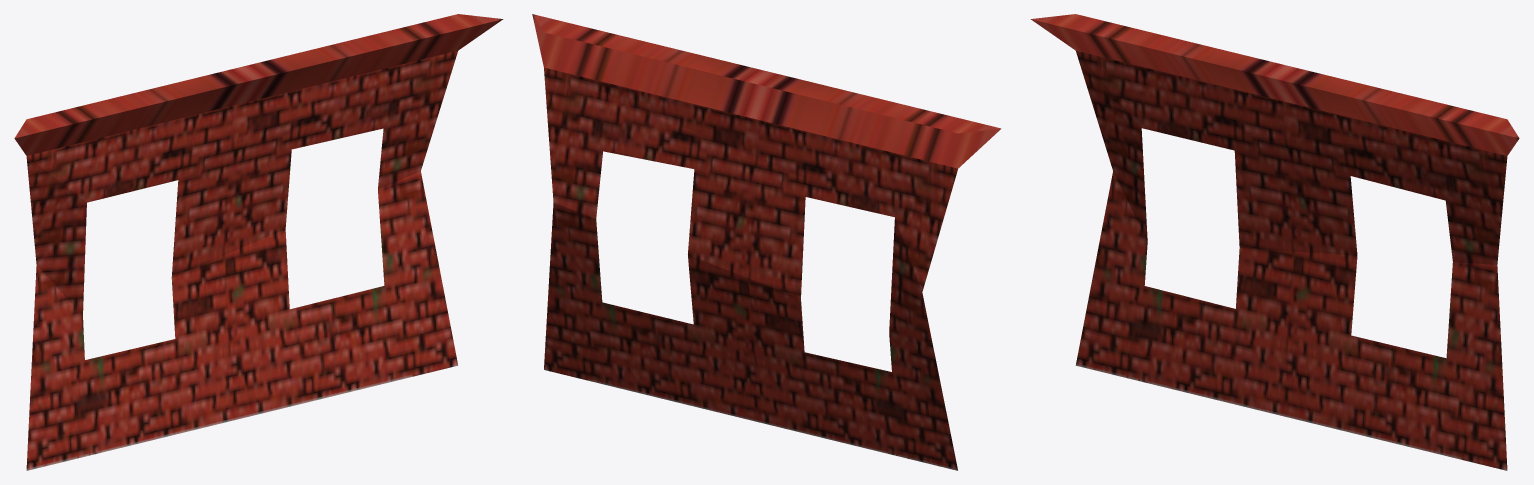
Rendered from W_A1_ff [Ziegel]_1420.glb.
3 renders of one model, left to right at view 1: azimuth 30°, elevation 25°; view 2: azimuth 150°, elevation 25°; view 3: azimuth 330°, elevation 25°, orthographic. The views are drawn at different scales.
Visible parts, largest first — view 1: polySurfaceShape1189, polySurfaceShape1191; view 2: polySurfaceShape1189, polySurfaceShape1191; view 3: polySurfaceShape1189, polySurfaceShape1191.
Part boxes in pixels (x1,y1,x2,y2): polySurfaceShape1189: [26, 51, 458, 470]; polySurfaceShape1191: [14, 14, 503, 155]; polySurfaceShape1189: [544, 67, 957, 470]; polySurfaceShape1191: [532, 14, 1001, 168]; polySurfaceShape1189: [1075, 51, 1507, 470]; polySurfaceShape1191: [1030, 14, 1519, 155].
Size of the model in its own units: 0.5666 by 0.3891 by 0.0607.
2 materials, 2 textured.
